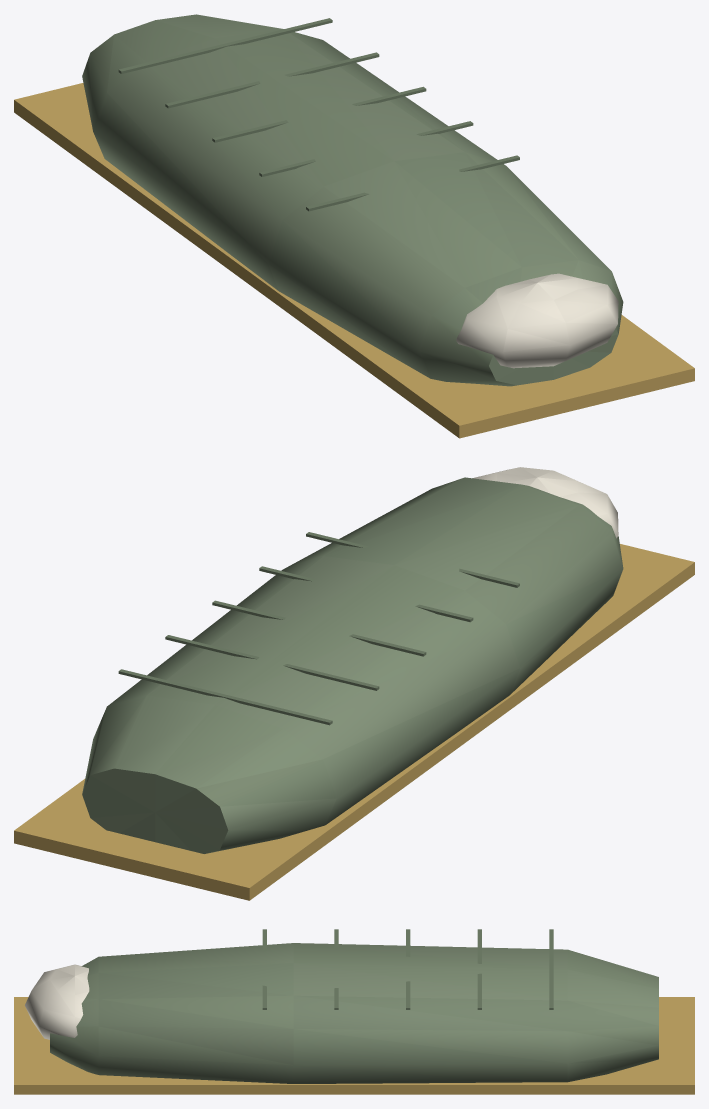
File: camp_bedding_a.glb
3 renders of one model, top to bottom at view 1: azimuth 30°, elevation 25°; view 2: azimuth 150°, elevation 25°; view 3: azimuth 270°, elevation 25°, orthographic. The views are drawn at different scales.
Visible parts, largest first — view 1: body; view 2: body; view 3: body.
Boxes of the visible parts, <box> form: body: <box>14,14,694,438</box>; body: <box>14,467,694,900</box>; body: <box>14,929,694,1094</box>.
Bounding box in the file's own units: 0.62 × 0.34 × 1.9.
